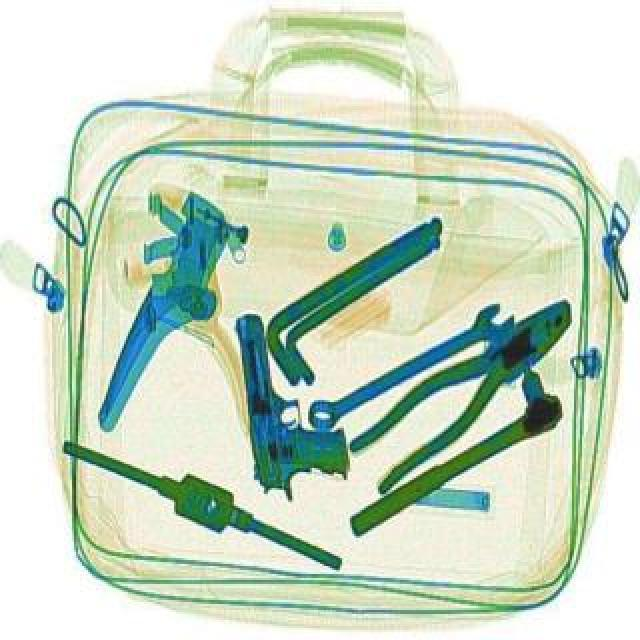gun: (236, 304, 352, 500)
scissors: (304, 296, 524, 438)
wrench: (336, 282, 596, 494)
